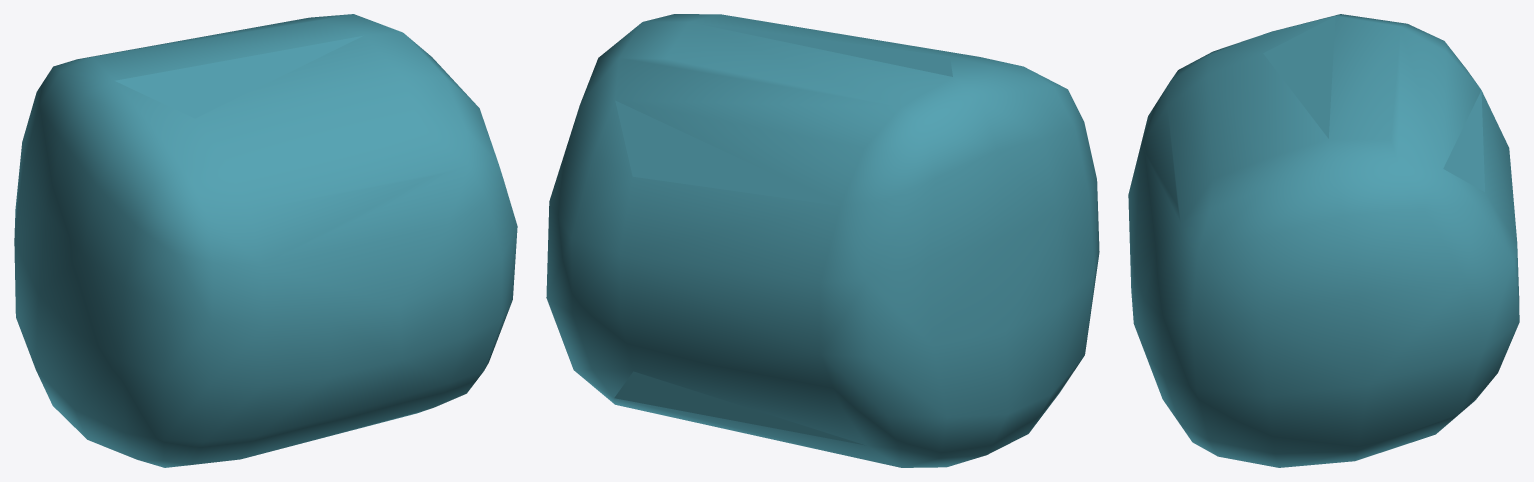
File: COL_Alpha_Surface_023_convex_hull.dae
3 views of the same model, side by side, from view 1: azimuth 30°, elevation 25°; view 2: azimuth 150°, elevation 25°; view 3: azimuth 270°, elevation 25° (orthographic). The views are drawn at different scales.
Parts seen in each view (by area): view 1: COL_Alpha_Surface_023_convex_hull; view 2: COL_Alpha_Surface_023_convex_hull; view 3: COL_Alpha_Surface_023_convex_hull.
Part boxes in pixels (box(x1,y1,x2,y2)): COL_Alpha_Surface_023_convex_hull: box(14, 14, 517, 467); COL_Alpha_Surface_023_convex_hull: box(546, 14, 1099, 467); COL_Alpha_Surface_023_convex_hull: box(1128, 14, 1519, 467).
Size of the model in its own units: 2.6 by 2.27 by 2.11.
